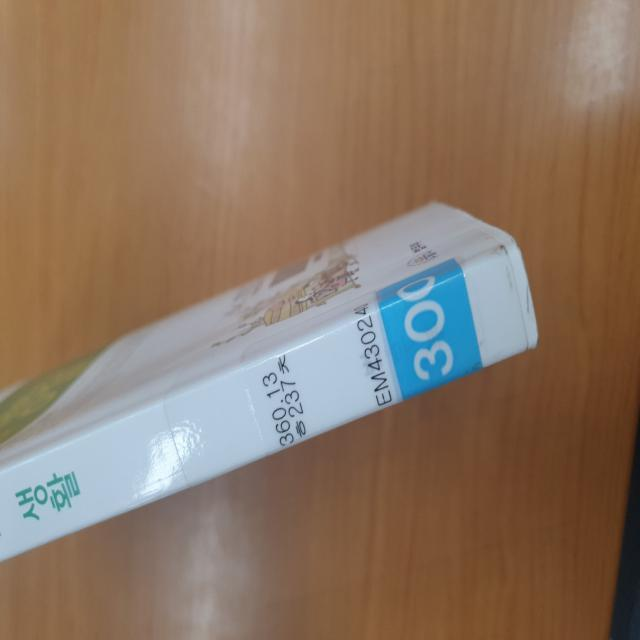Wornout: (508, 230, 547, 355)
